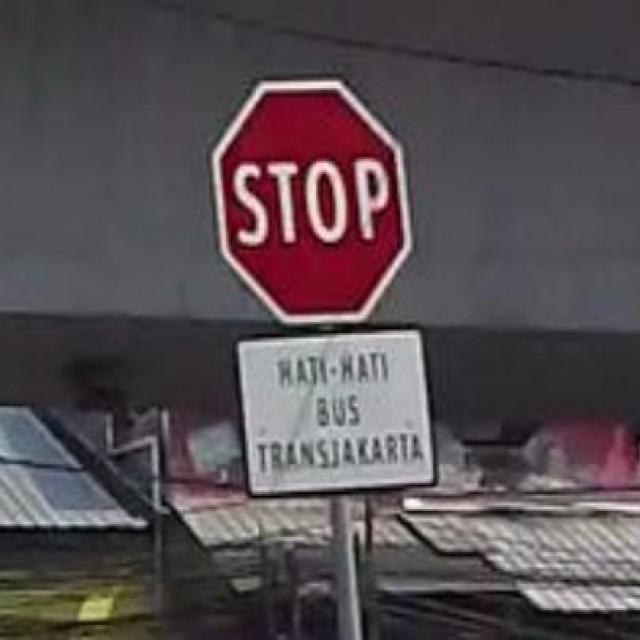traffic sign: (209, 79, 414, 324)
